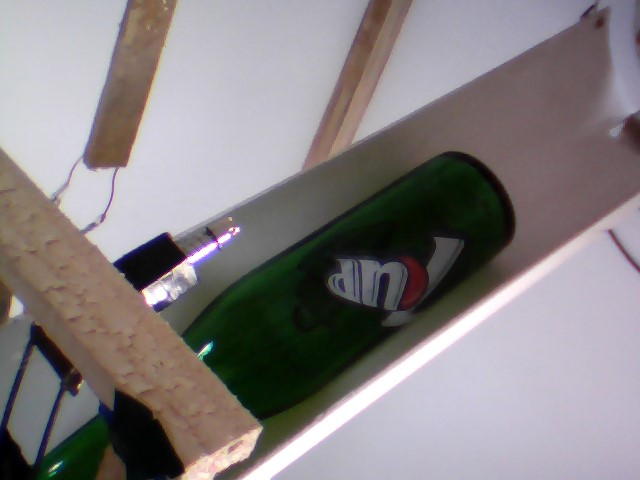vidrio: (175, 143, 527, 416)
